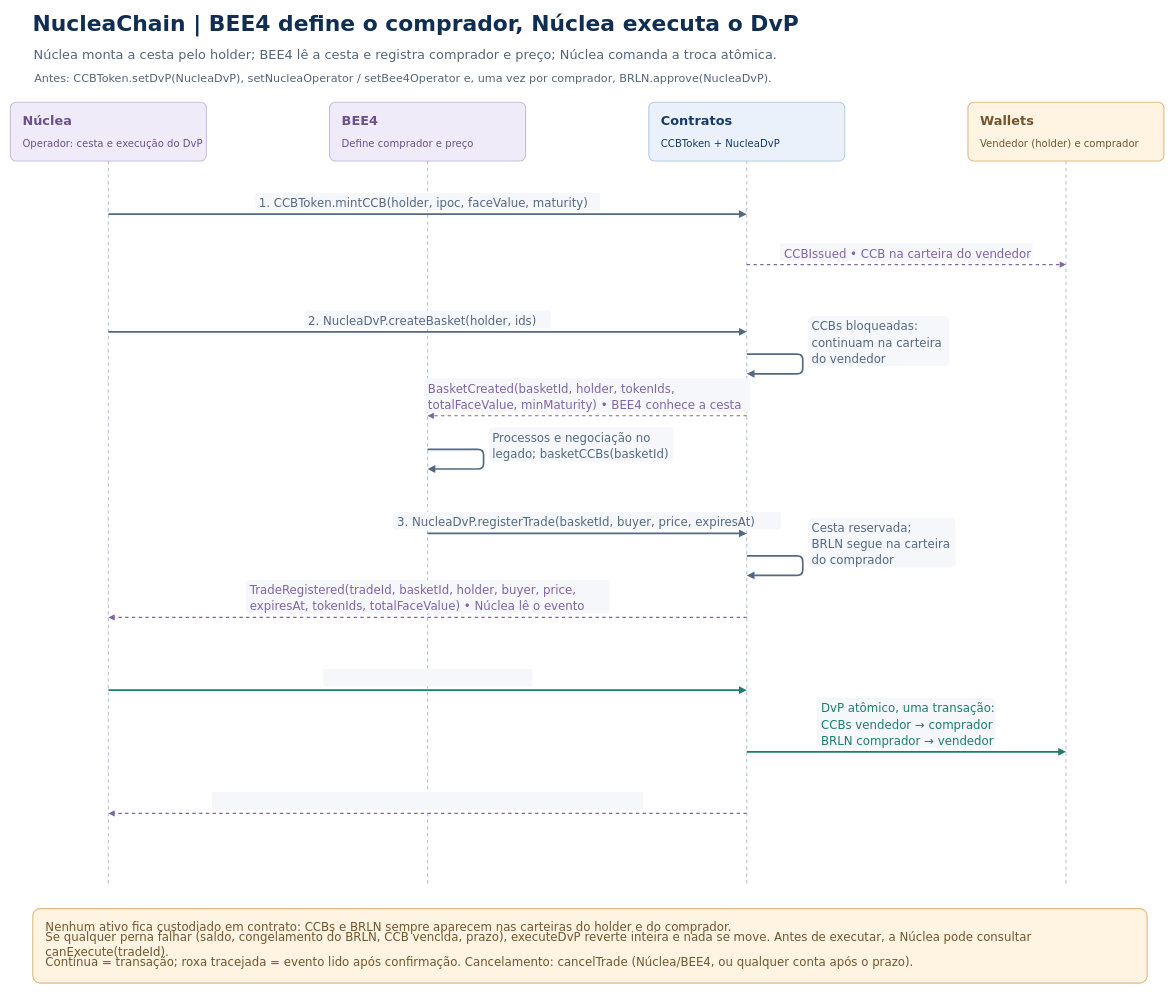
The diagram is 1174 pixels wide and 993 high, and some of its shapes have lost their labels. Each missing label, with the box of its shape:
4. NucleaDvP.executeDvP(tradeId): (323, 669, 532, 686)
DvPExecuted(tradeId, basketId, buyer, holder, price) • Núclea e BEE4: (212, 792, 643, 809)
